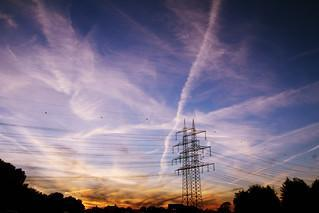power_tower: (173, 117, 217, 213)
